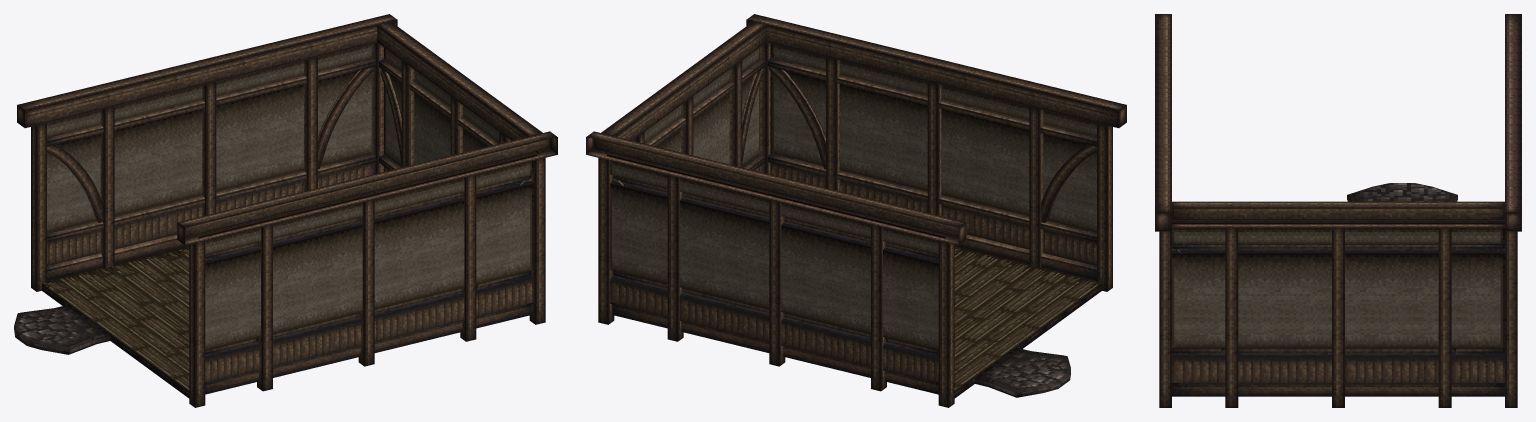
Rendered from EnvBdgMD_Mount_A_Indoor_House_B_L.FBX.
3 renders of one model, left to right at view 1: azimuth 30°, elevation 25°; view 2: azimuth 150°, elevation 25°; view 3: azimuth 270°, elevation 25°, orthographic. The views are drawn at different scales.
Visible parts, largest first — view 1: EnvBdgMD_Mount_A_Indoor_House_B_L; view 2: EnvBdgMD_Mount_A_Indoor_House_B_L; view 3: EnvBdgMD_Mount_A_Indoor_House_B_L.
Part boxes in pixels (<box>): EnvBdgMD_Mount_A_Indoor_House_B_L: <box>14,14,557,407</box>; EnvBdgMD_Mount_A_Indoor_House_B_L: <box>586,14,1126,407</box>; EnvBdgMD_Mount_A_Indoor_House_B_L: <box>1155,14,1521,407</box>.
Size of the model in its own units: 1250 by 520 by 860.
Materials: 1 (1 with a texture image).
